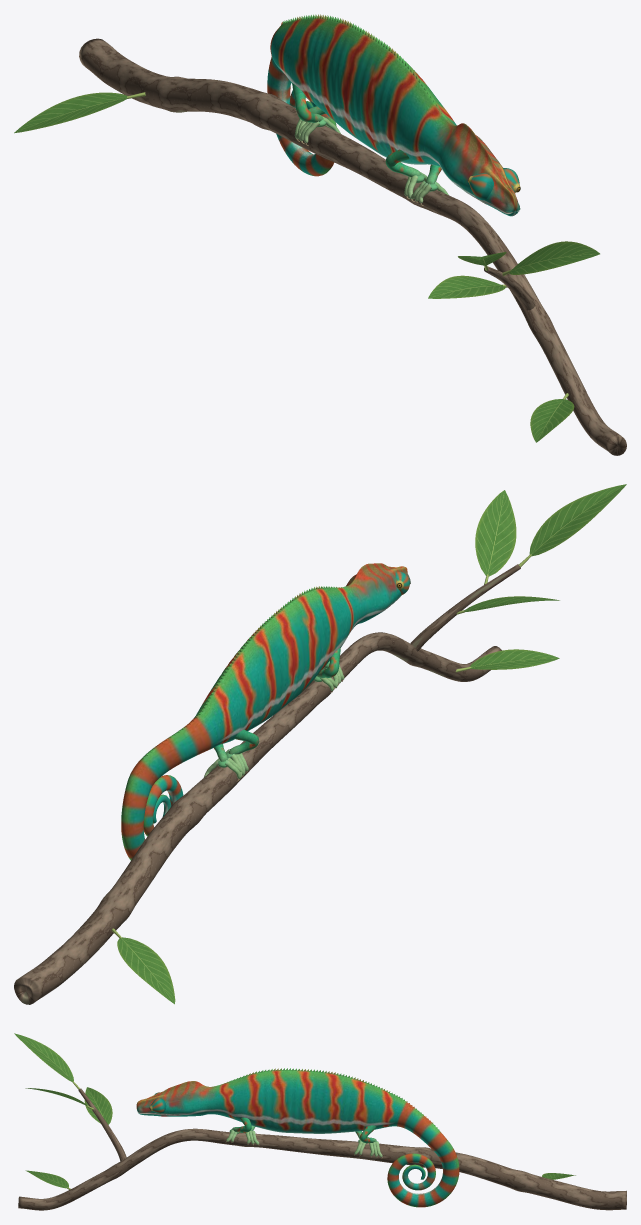
The model's file is panther-chameleon.glb.
3 views of the same model, one above another, from view 1: azimuth 30°, elevation 25°; view 2: azimuth 150°, elevation 25°; view 3: azimuth 270°, elevation 25° (orthographic). The views are drawn at different scales.
Parts seen in each view (by area): view 1: panther-chameleon.body, panther-chameleon.twig, panther-chameleon.twig.leaves, panther-chameleon.crest; view 2: panther-chameleon.body, panther-chameleon.twig, panther-chameleon.twig.leaves; view 3: panther-chameleon.body, panther-chameleon.twig, panther-chameleon.twig.leaves, panther-chameleon.crest.
Part boxes in pixels (left/top/right/bottom): panther-chameleon.body: left=267, top=18, right=520, bottom=216; panther-chameleon.twig: left=79, top=38, right=626, bottom=455; panther-chameleon.twig.leaves: left=14, top=92, right=599, bottom=442; panther-chameleon.crest: left=281, top=14, right=448, bottom=121; panther-chameleon.body: left=121, top=563, right=410, bottom=860; panther-chameleon.twig: left=14, top=564, right=520, bottom=1004; panther-chameleon.twig.leaves: left=111, top=484, right=626, bottom=1004; panther-chameleon.body: left=136, top=1070, right=459, bottom=1207; panther-chameleon.twig: left=18, top=1088, right=626, bottom=1210; panther-chameleon.twig.leaves: left=14, top=1033, right=575, bottom=1189; panther-chameleon.crest: left=214, top=1068, right=439, bottom=1130.
Bounding box in the file's own units: 0.0991 × 0.1225 × 0.4815.
Materials: 5 (3 with a texture image).
